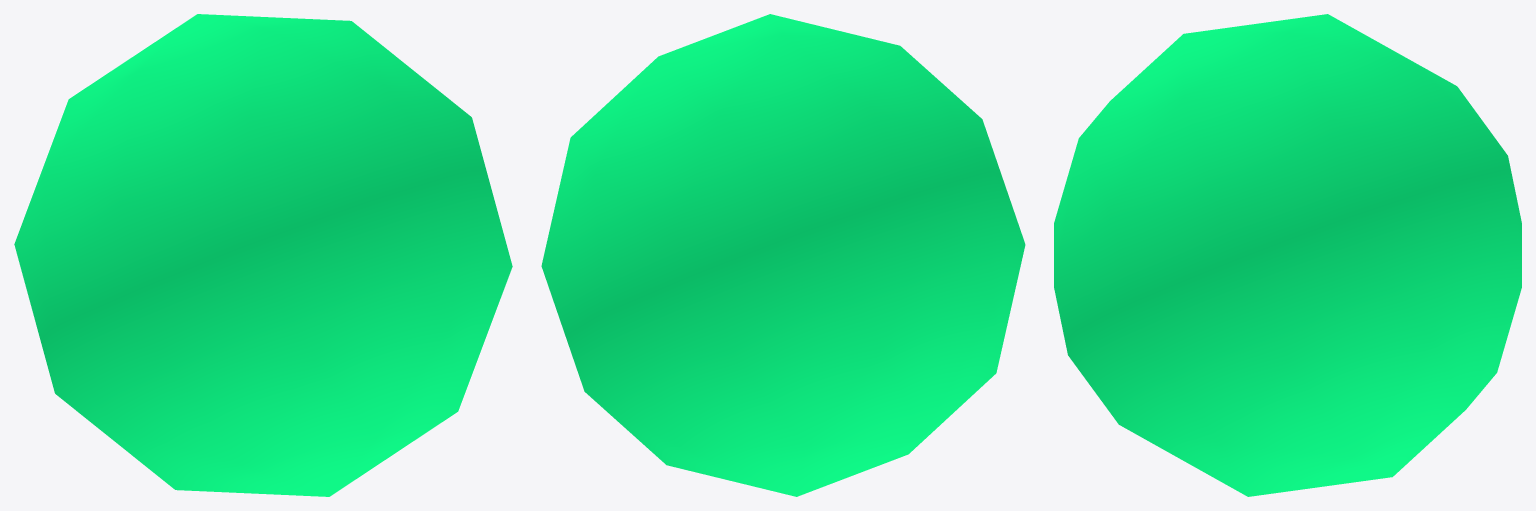
Rendered from ps2_save-icons_okami.glb.
The picture shows the model from 3 angles, left to right: view 1: azimuth 30°, elevation 25°; view 2: azimuth 150°, elevation 25°; view 3: azimuth 270°, elevation 25°; orthographic projection. The views are drawn at different scales.
Parts seen in each view (by area): view 1: okami.ico; view 2: okami.ico; view 3: okami.ico.
Part boxes in pixels (bbox=[...]): okami.ico: bbox=[14, 14, 512, 496]; okami.ico: bbox=[541, 14, 1025, 496]; okami.ico: bbox=[1054, 14, 1521, 496].
Size of the model in its own units: 0.585 by 0.5852 by 0.5569.
1 material, 1 textured.
